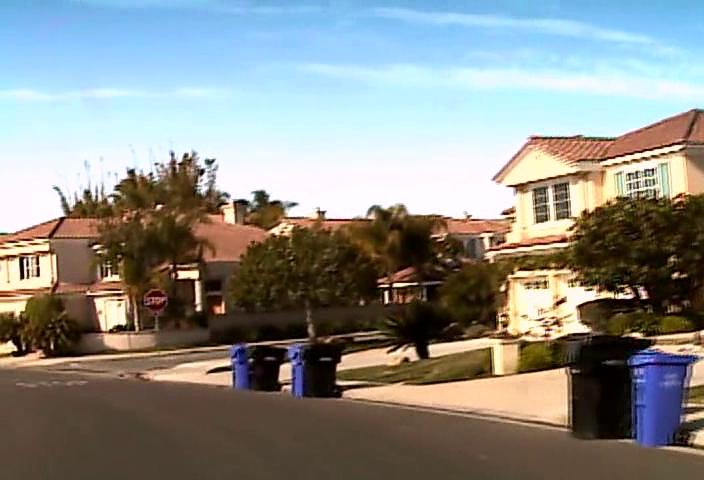stop: (142, 288, 168, 313)
